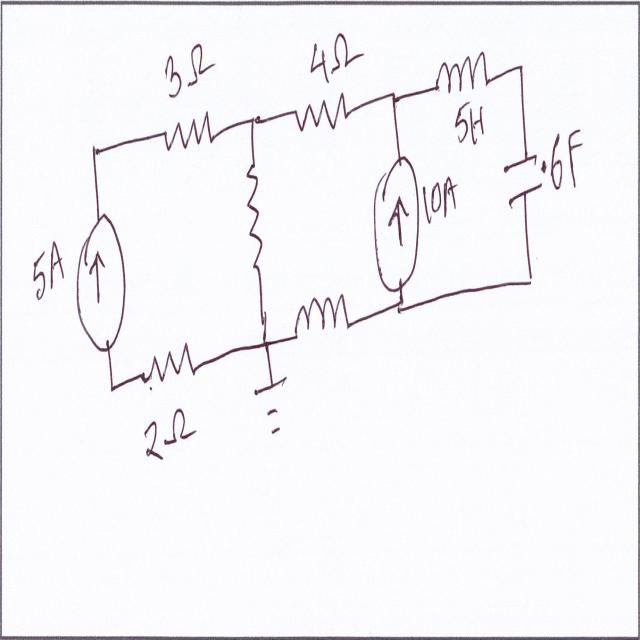capacitor: (250, 374, 295, 454), (498, 147, 546, 213)
current_source: (365, 146, 423, 298), (75, 211, 130, 362)
inductor: (291, 286, 352, 351), (434, 36, 498, 95)
resistor: (241, 146, 267, 276), (140, 339, 198, 391), (164, 106, 215, 165), (295, 85, 350, 136)
